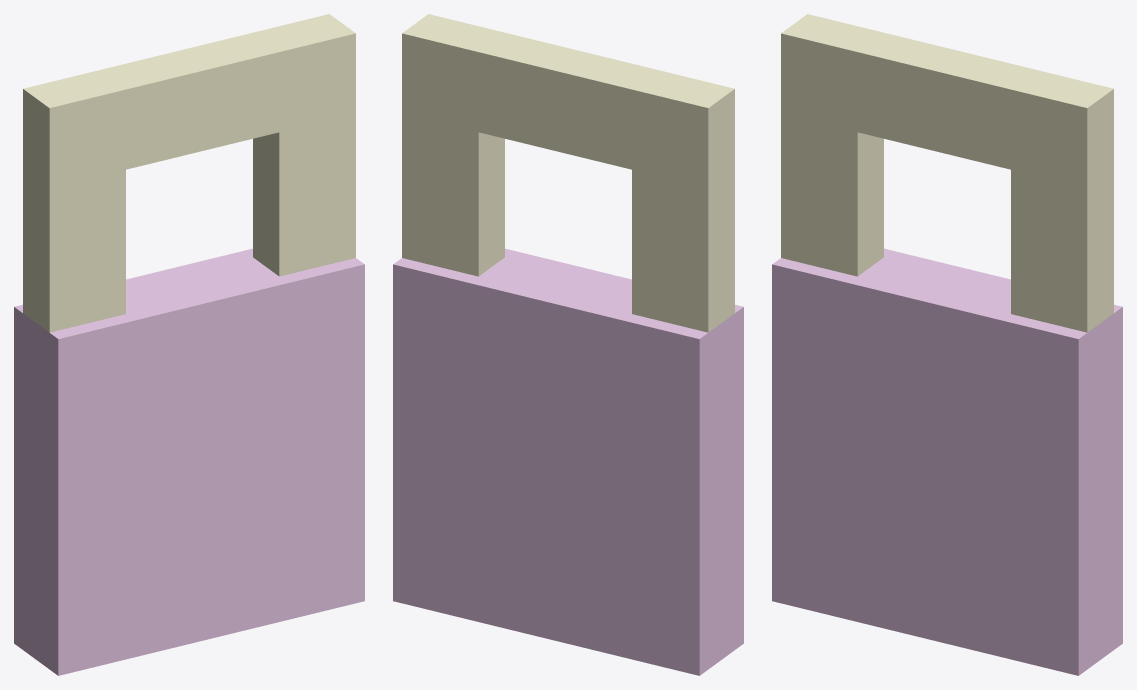
File: Wall_B_Window_Small.glb
3 views of the same model, side by side, from view 1: azimuth 30°, elevation 25°; view 2: azimuth 150°, elevation 25°; view 3: azimuth 330°, elevation 25° (orthographic).
Visible parts, largest first — view 1: Wall B Window Small; view 2: Wall B Window Small; view 3: Wall B Window Small.
Boxes of the visible parts, x1,y1,x2,y2 form: Wall B Window Small: [14, 14, 364, 675]; Wall B Window Small: [393, 14, 743, 675]; Wall B Window Small: [772, 14, 1122, 675].
Size of the model in its own units: 2 by 3.5 by 0.5.
